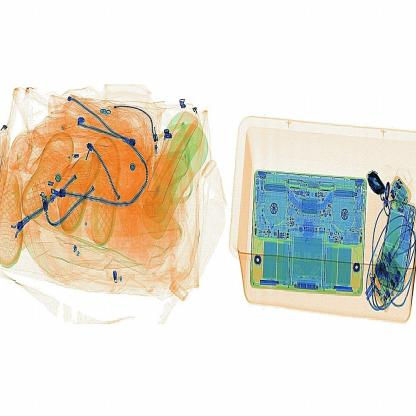scissors: (360, 161, 386, 206)
